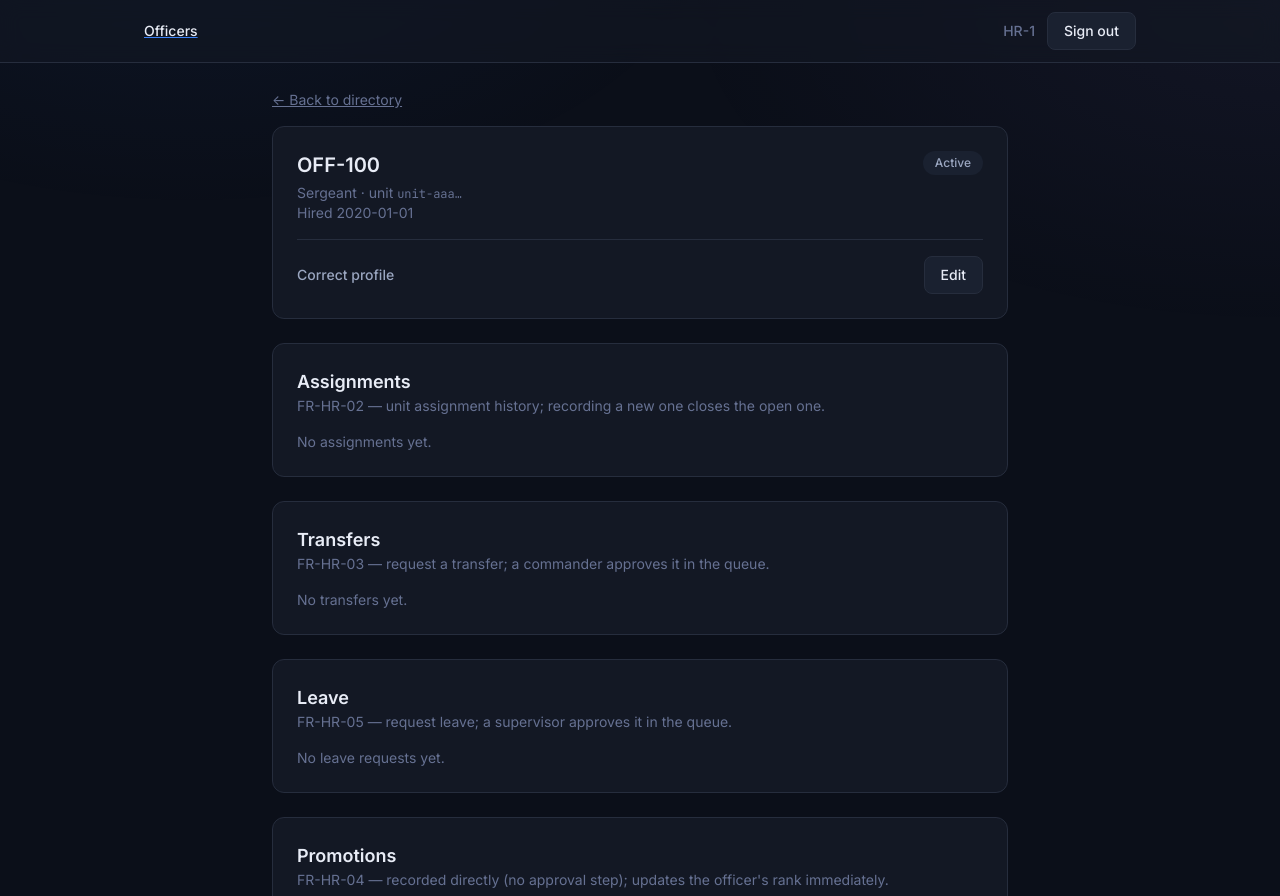
Test: OfficerProfilePage › PATCHes only the changed fields
Expected: the heading "OFF-100" is shown, [297,153,380,177]
Click the button "Edit" at (953,275), box [924,256,983,294]
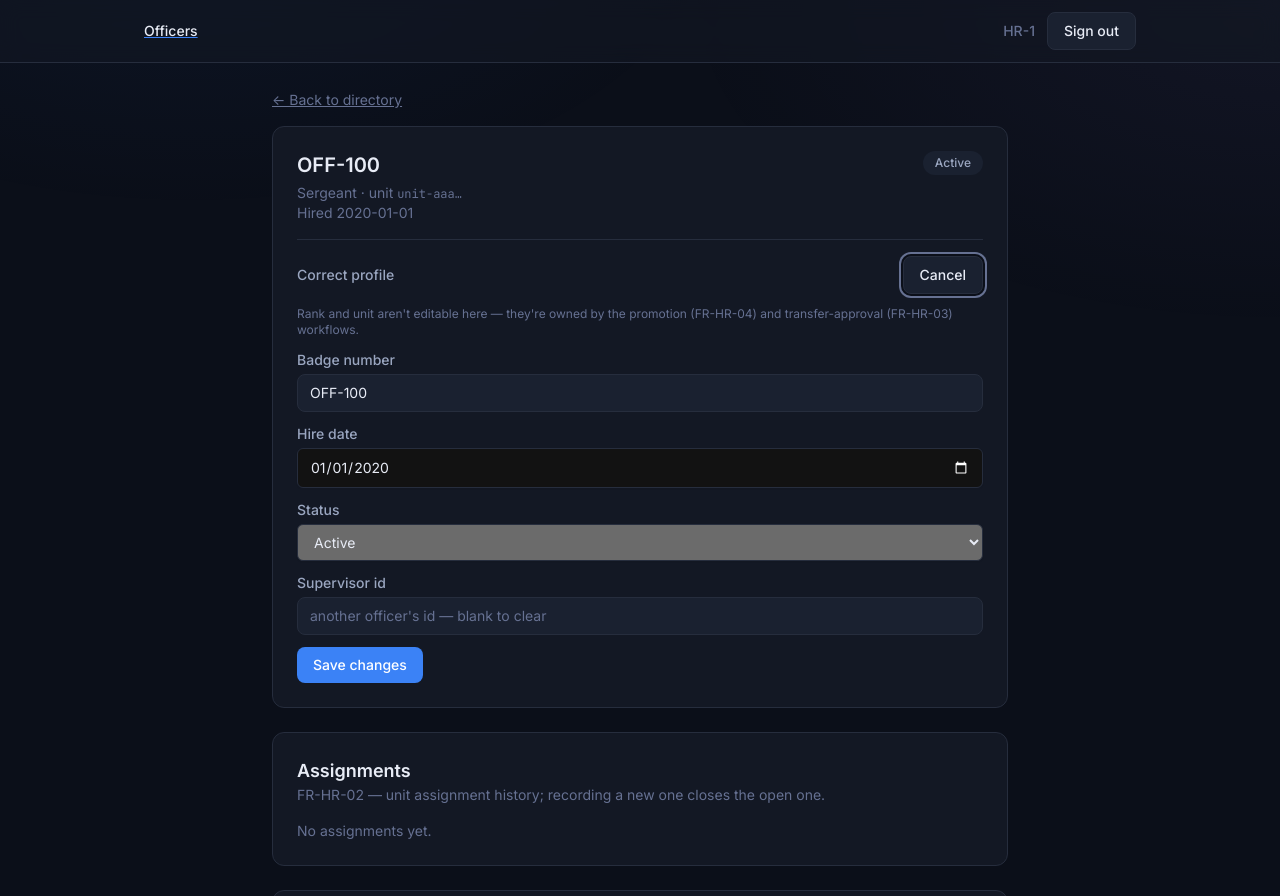
Select "Suspended" in the dropdown labelled "Status" at (640,542), box [297,524,983,561]
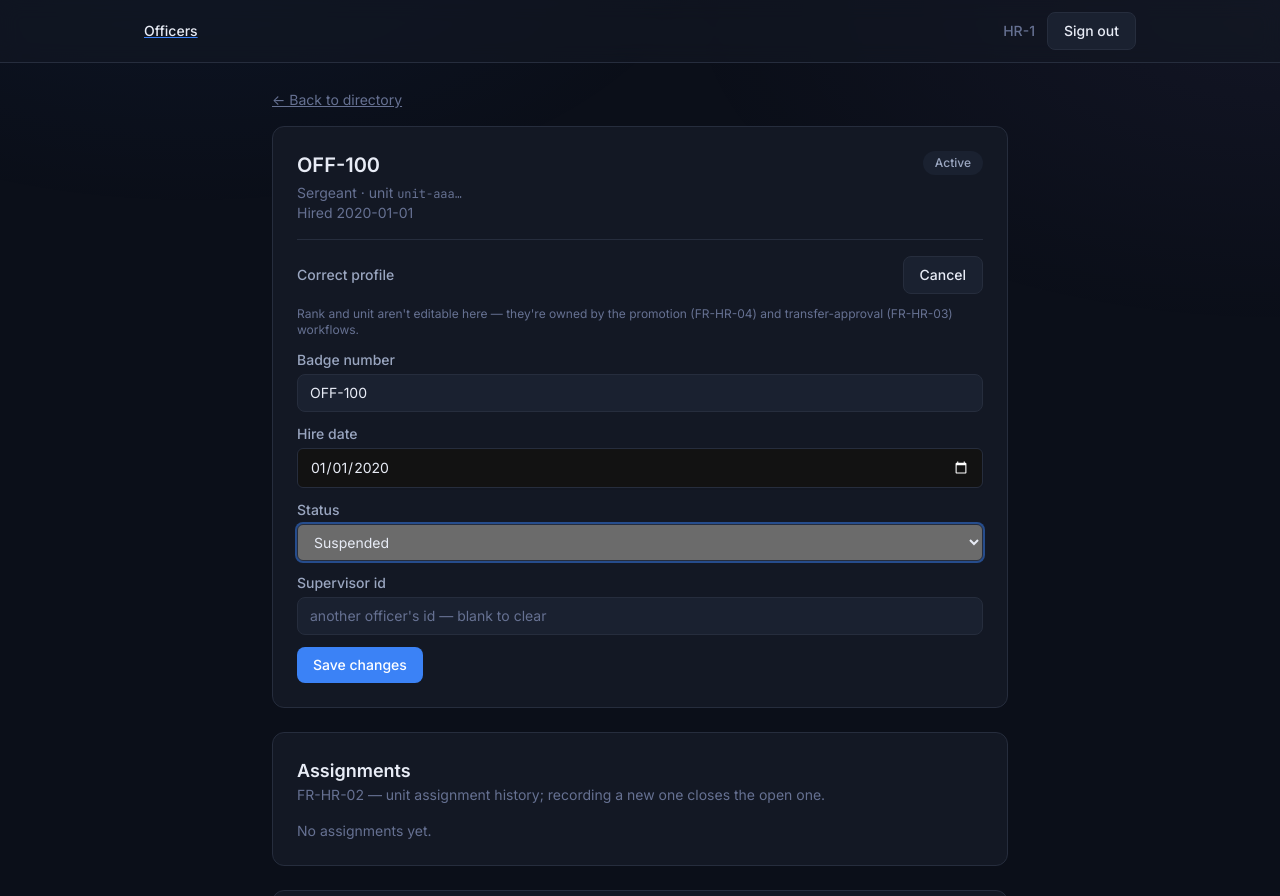
Click the button "Save changes" at (360,665), box [297,647,423,683]
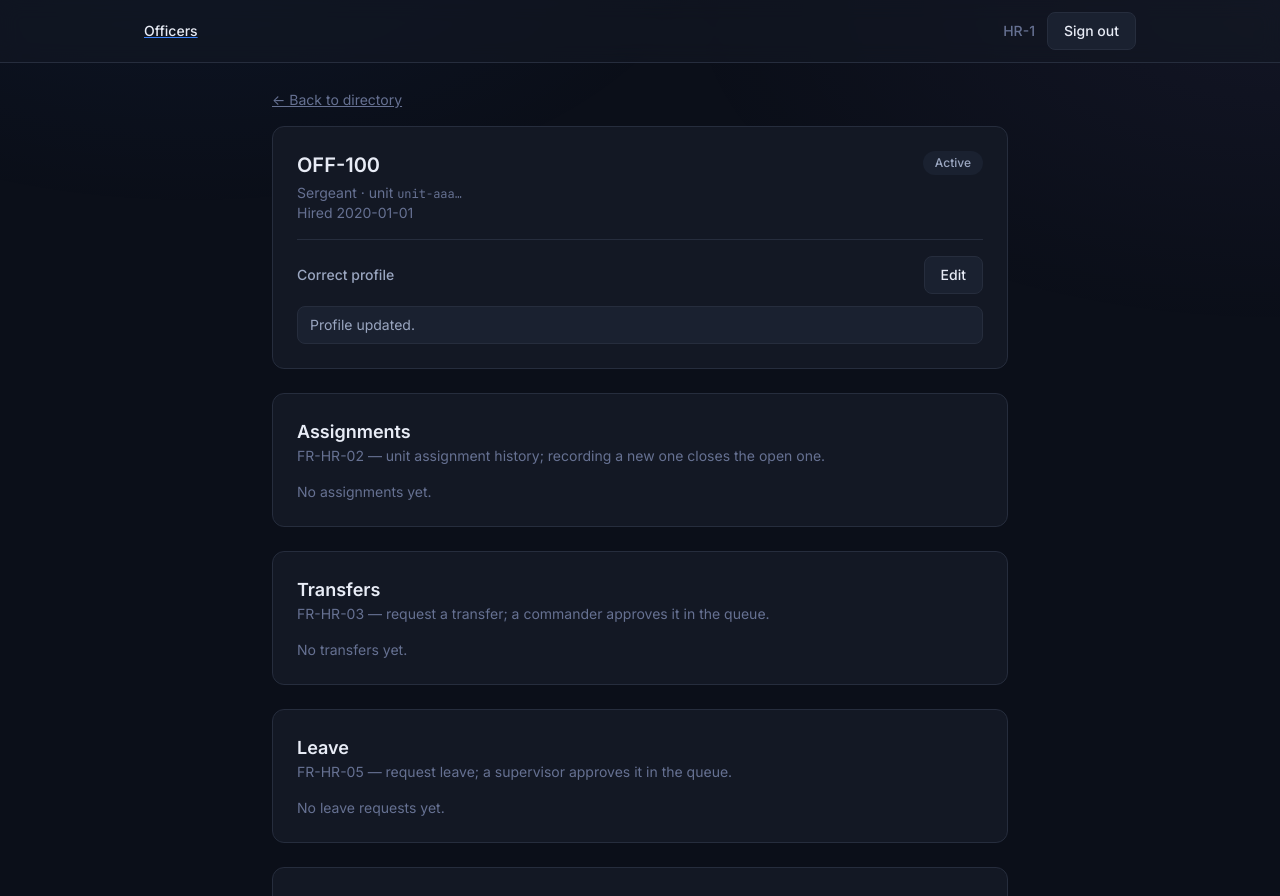
Result: the text "Profile updated." is shown at [297,306,983,344]
